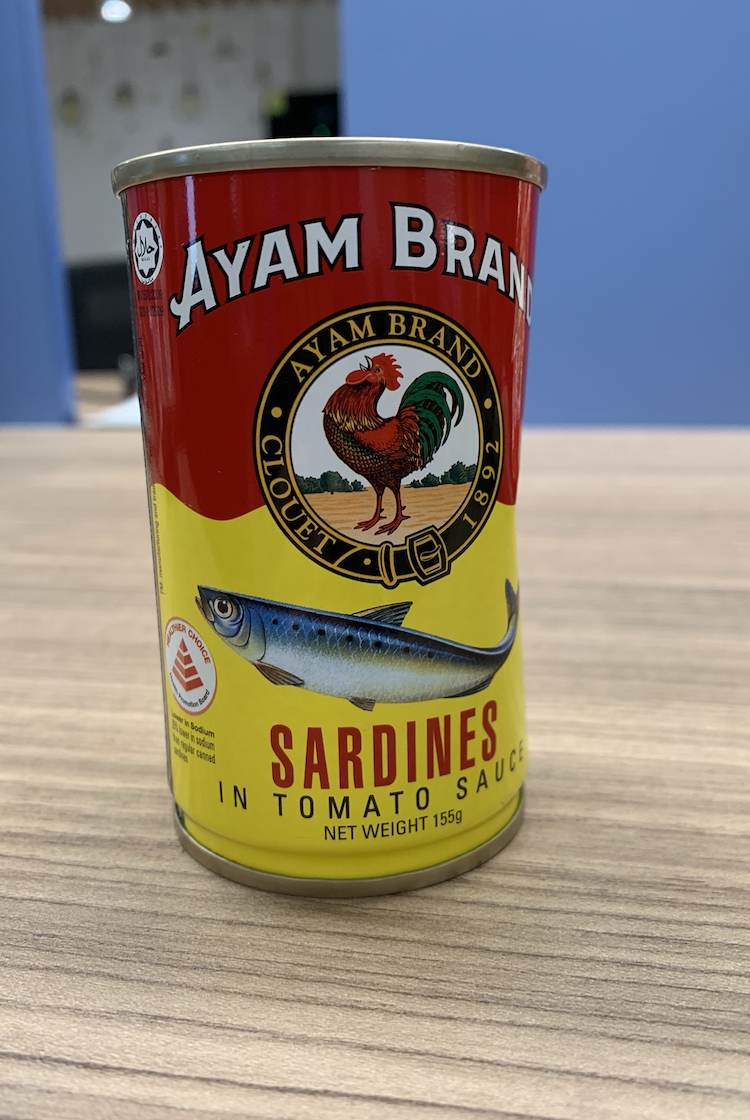sardines_100g-199g: (161, 217, 512, 838)
